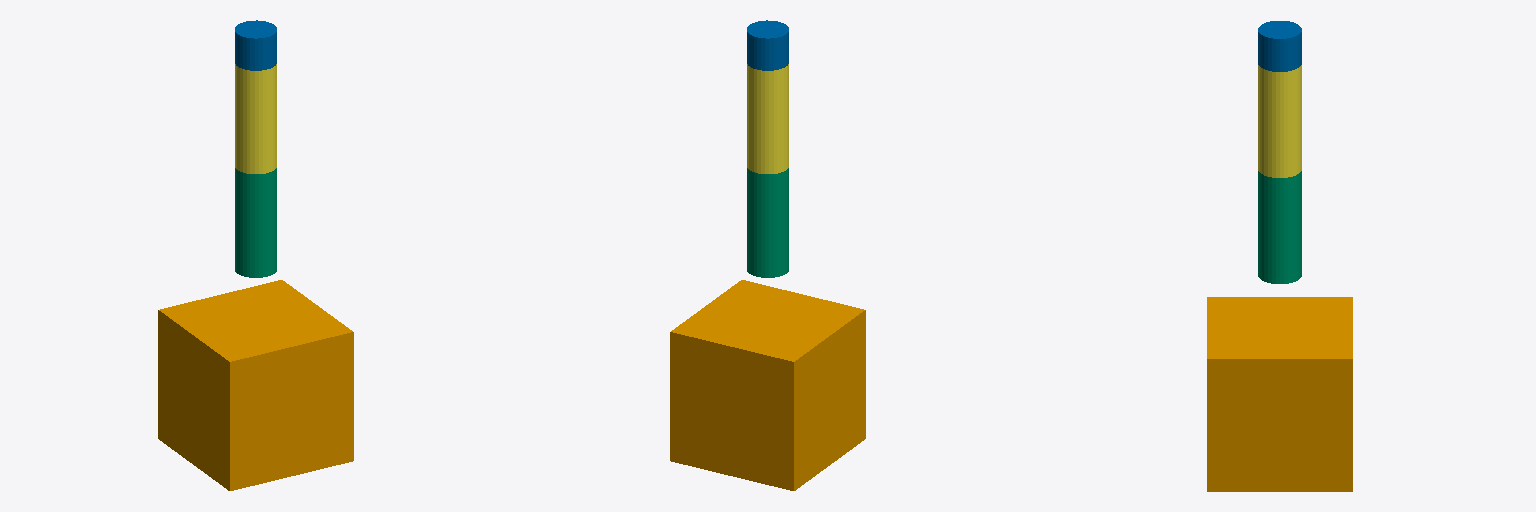
The robot description file, URDF, robot "mrm":
<?xml version="1.0" ?>
<!-- =================================================================================== -->
<!-- |    This document was autogenerated by xacro from mrm.xacro                      | -->
<!-- |    EDITING THIS FILE BY HAND IS NOT RECOMMENDED                                 | -->
<!-- =================================================================================== -->
<robot name="mrm" xmlns:xacro="http://www.ros.org/wiki/xacro">
  <!-- END - Include -->
  <link name="base_link">
    <inertial>
      <mass value="1024"/>
      <origin rpy="0 0 0" xyz="0 0 0"/>
      <inertia ixx="170.667" ixy="0" ixz="0" iyy="170.667" iyz="0" izz="170.667"/>
    </inertial>
    <collision>
      <origin rpy="0 0 0" xyz="0 0 0"/>
      <geometry>
        <box size="1 1 1"/>
      </geometry>
    </collision>
    <visual>
      <origin rpy="0 0 0" xyz="0 0 0"/>
      <geometry>
        <box size="1 1 1"/>
      </geometry>
    </visual>
  </link>
  <joint name="base_link__link_01" type="revolute">
    <axis xyz="0 0 1"/>
    <limit effort="1000" lower="-3.14" upper="3.14" velocity="0.5"/>
    <origin rpy="0 0 0" xyz="0 0 0.5"/>
    <parent link="base_link"/>
    <child link="link_01"/>
  </joint>
  <transmission name="trans_base_link__link_01">
    <type>transmission_interface/SimpleTransmission</type>
    <joint name="base_link__link_01">
      <hardwareInterface>hardware_interface/EffortJointInterface</hardwareInterface>
    </joint>
    <actuator name="motor_base_link__link_01">
      <hardwareInterface>hardware_interface/EffortJointInterface</hardwareInterface>
      <mechanicalReduction>1</mechanicalReduction>
    </actuator>
  </transmission>
  <link name="link_01">
    <inertial>
      <mass value="157.633"/>
      <origin rpy="0 0 0" xyz="0 0 -0.1"/>
      <inertia ixx="13.235" ixy="0" ixz="0" iyy="13.235" iyz="0" izz="9.655"/>
    </inertial>
    <collision>
      <origin rpy="0 0 0" xyz="0 0 -0.1"/>
      <geometry>
        <mesh filename="package://mrm_description/meshes/Link1-v2.stl" scale="0.001 0.001 0.001"/>
      </geometry>
    </collision>
    <visual>
      <origin rpy="0 0 0" xyz="0 0 -0.1"/>
      <geometry>
        <mesh filename="package://mrm_description/meshes/Link1-v2.stl" scale="0.001 0.001 0.001"/>
      </geometry>
      <material name="light_black"/>
    </visual>
  </link>
  <joint name="link_01__link_02" type="revolute">
    <axis xyz="0 1 0"/>
    <limit effort="1000" lower="0" upper="0.5" velocity="0.5"/>
    <origin rpy="0 0 0" xyz="0 0 0.4"/>
    <parent link="link_01"/>
    <child link="link_02"/>
  </joint>
  <transmission name="trans_link_01__link_02">
    <type>transmission_interface/SimpleTransmission</type>
    <joint name="link_01__link_02">
      <hardwareInterface>hardware_interface/EffortJointInterface</hardwareInterface>
    </joint>
    <actuator name="motor_link_01__link_02">
      <hardwareInterface>hardware_interface/EffortJointInterface</hardwareInterface>
      <mechanicalReduction>1</mechanicalReduction>
    </actuator>
  </transmission>
  <link name="link_02">
    <inertial>
      <mass value="57.906"/>
      <origin rpy="0 0 0" xyz="0 0 0.4"/>
      <inertia ixx="12.679" ixy="0" ixz="0" iyy="12.679" iyz="0" izz="0.651"/>
    </inertial>
    <collision>
      <origin rpy="0 0 0" xyz="0 0 0.4"/>
      <geometry>
        <cylinder length="0.8" radius="0.15"/>
      </geometry>
    </collision>
    <visual>
      <origin rpy="0 0 0" xyz="0 0 0.4"/>
      <geometry>
        <cylinder length="0.8" radius="0.15"/>
      </geometry>
    </visual>
  </link>
  <joint name="link_02__link_03" type="revolute">
    <axis xyz="0 1 0"/>
    <limit effort="1000" lower="0" upper="0.75" velocity="0.5"/>
    <origin rpy="0 0 0" xyz="0 0 0.8"/>
    <parent link="link_02"/>
    <child link="link_03"/>
  </joint>
  <transmission name="trans_link_02__link_03">
    <type>transmission_interface/SimpleTransmission</type>
    <joint name="link_02__link_03">
      <hardwareInterface>hardware_interface/EffortJointInterface</hardwareInterface>
    </joint>
    <actuator name="motor_link_02__link_03">
      <hardwareInterface>hardware_interface/EffortJointInterface</hardwareInterface>
      <mechanicalReduction>1</mechanicalReduction>
    </actuator>
  </transmission>
  <link name="link_03">
    <inertial>
      <mass value="57.906"/>
      <origin rpy="0 0 0" xyz="0 0 0.4"/>
      <inertia ixx="12.679" ixy="0" ixz="0" iyy="12.679" iyz="0" izz="0.651"/>
    </inertial>
    <collision>
      <origin rpy="0 0 0" xyz="0 0 0.4"/>
      <geometry>
        <cylinder length="0.8" radius="0.15"/>
      </geometry>
    </collision>
    <visual>
      <origin rpy="0 0 0" xyz="0 0 0.4"/>
      <geometry>
        <cylinder length="0.8" radius="0.15"/>
      </geometry>
    </visual>
  </link>
  <joint name="link_03__link_05" type="revolute">
    <axis xyz="0 0 1"/>
    <limit effort="1000" lower="0" upper="1.57" velocity="0.5"/>
    <origin rpy="0 0 0" xyz="0 0 0.8"/>
    <parent link="link_03"/>
    <child link="link_05"/>
  </joint>
  <transmission name="trans_link_03__link_05">
    <type>transmission_interface/SimpleTransmission</type>
    <joint name="link_03__link_05">
      <hardwareInterface>hardware_interface/EffortJointInterface</hardwareInterface>
    </joint>
    <actuator name="motor_link_03__link_05">
      <hardwareInterface>hardware_interface/EffortJointInterface</hardwareInterface>
      <mechanicalReduction>1</mechanicalReduction>
    </actuator>
  </transmission>
  <link name="link_05">
    <inertial>
      <mass value="18.056"/>
      <origin rpy="0 0 0" xyz="0 0 0.125"/>
      <inertia ixx="0.479" ixy="0" ixz="0" iyy="0.479" iyz="0" izz="0.204"/>
    </inertial>
    <collision>
      <origin rpy="0 0 0" xyz="0 0 0.125"/>
      <geometry>
        <cylinder length="0.25" radius="0.15"/>
      </geometry>
    </collision>
    <visual>
      <origin rpy="0 0 0" xyz="0 0 0.125"/>
      <geometry>
        <cylinder length="0.25" radius="0.15"/>
      </geometry>
    </visual>
  </link>
  <!-- END - Robot description -->
  <gazebo>
    <plugin filename="libgazebo_ros_control.so" name="gazebo_ros_control">
    </plugin>
  </gazebo>
</robot>

--- Facts derived from the render (not from the file) ---
3 views of the same robot in one strip: view 1: azimuth 30°, elevation 25°; view 2: azimuth 150°, elevation 25°; view 3: azimuth 270°, elevation 25° (orthographic).
Robot: mrm — 5 links, 4 joints (4 revolute); root link base_link; default pose: every joint at zero.
Visible links, largest first — view 1: base_link, link_02, link_03, link_05; view 2: base_link, link_02, link_03, link_05; view 3: base_link, link_02, link_03, link_05.
Link boxes in pixels (box(x1,y1,x2,y2)): base_link: box(158, 280, 353, 490); link_02: box(235, 168, 276, 277); link_03: box(235, 64, 276, 173); link_05: box(235, 20, 276, 70); base_link: box(670, 280, 865, 490); link_02: box(747, 168, 788, 277); link_03: box(747, 64, 788, 173); link_05: box(747, 20, 788, 70); base_link: box(1207, 297, 1352, 491); link_02: box(1258, 171, 1301, 283); link_03: box(1258, 65, 1301, 177); link_05: box(1258, 21, 1301, 71).
Size in the robot's own frame: 1 by 1 by 3.25 metres.
0 mesh visuals loaded from 1 distinct referenced files (none loaded); not drawn: 1 (reference not matched to a file when rendering).